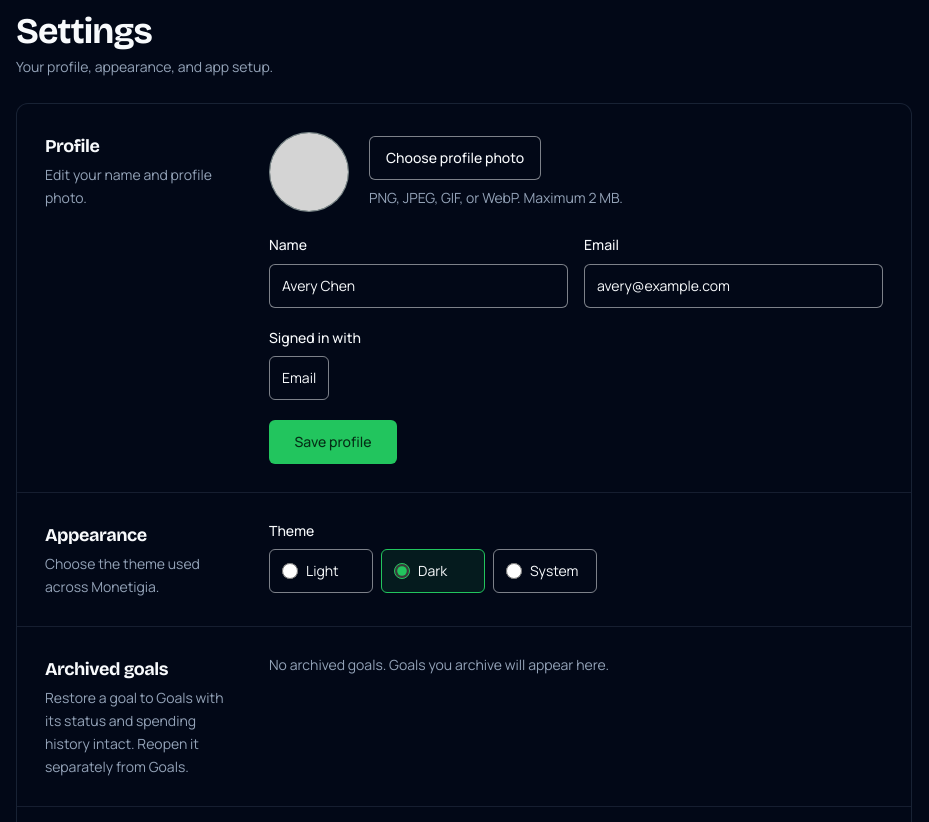
it: settings page › saves a changed name and reports success only after a returned user row
Replace the text in the field labelled "Name" with "Avery Rivera" at (418, 286), box [269,264,568,308]
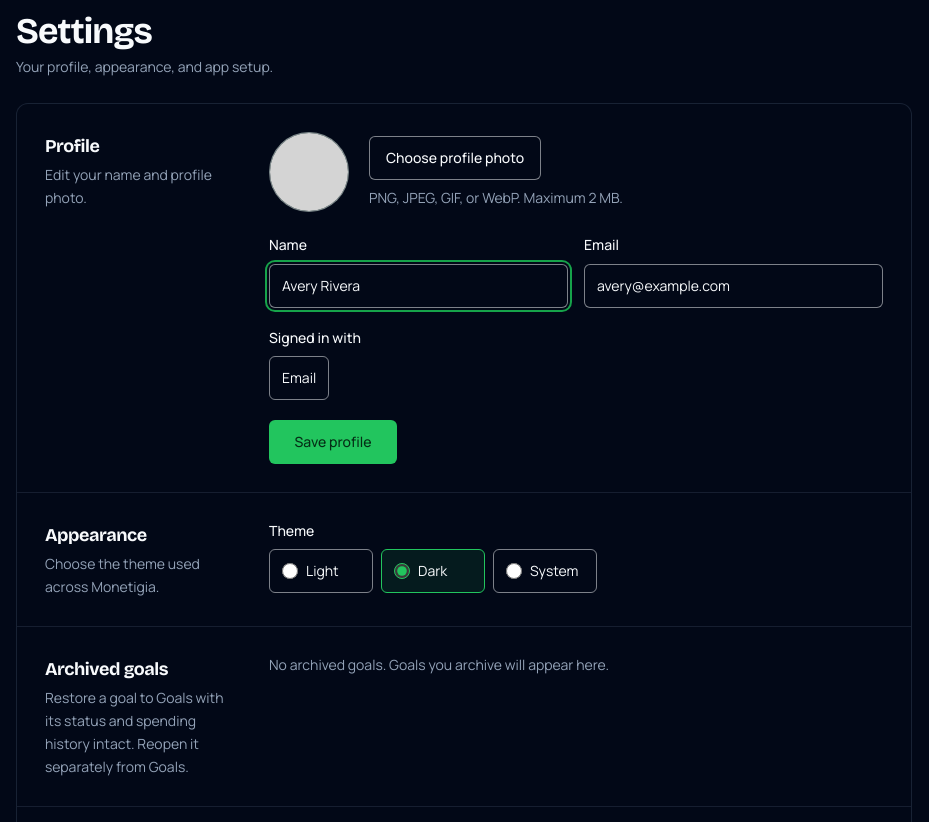
Click the button "Save profile".
click(333, 442)  # box [269,420,397,464]
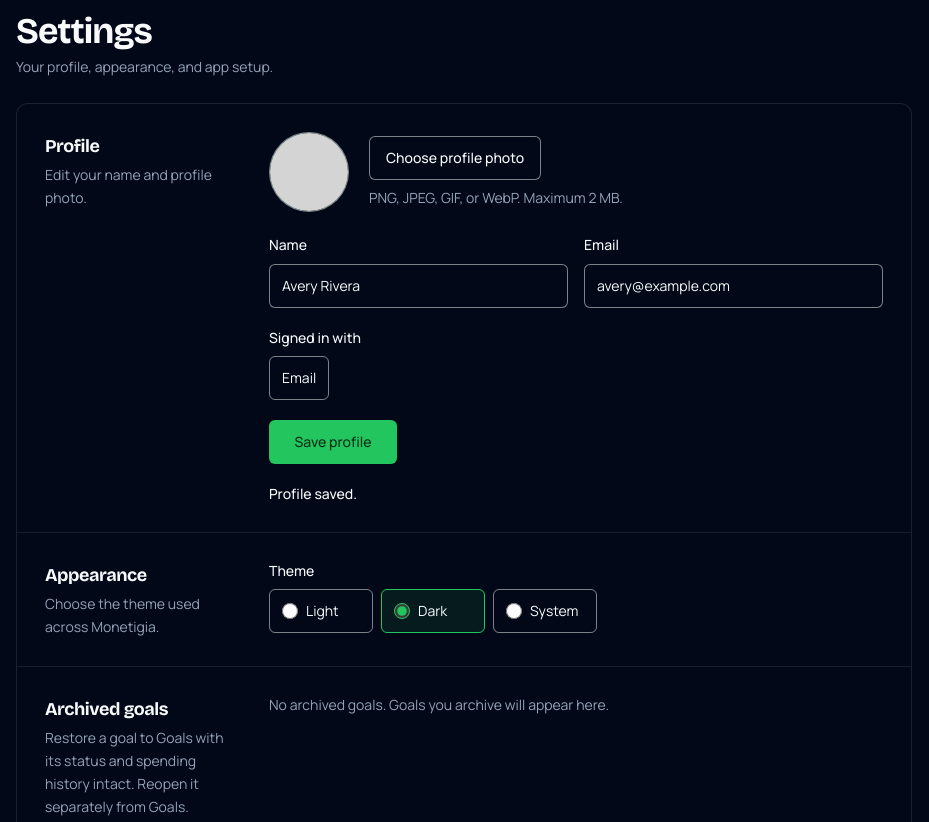
Expected: the message shows "Profile saved", [269,484,357,503]
